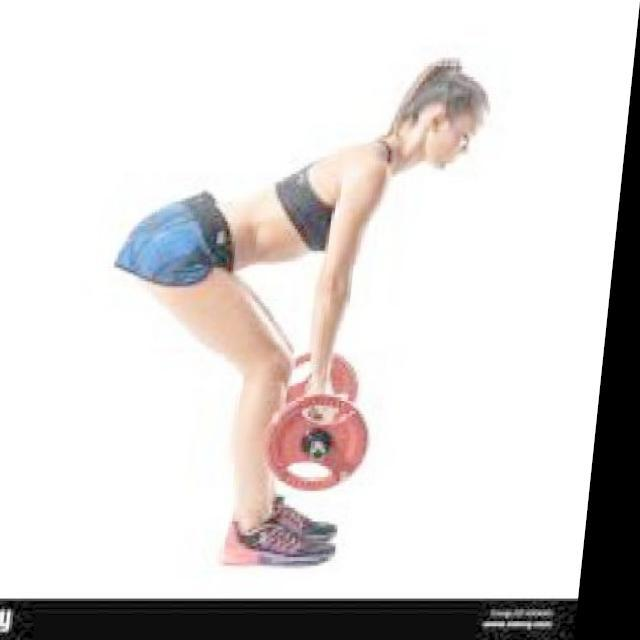barbell: (265, 388, 389, 499)
